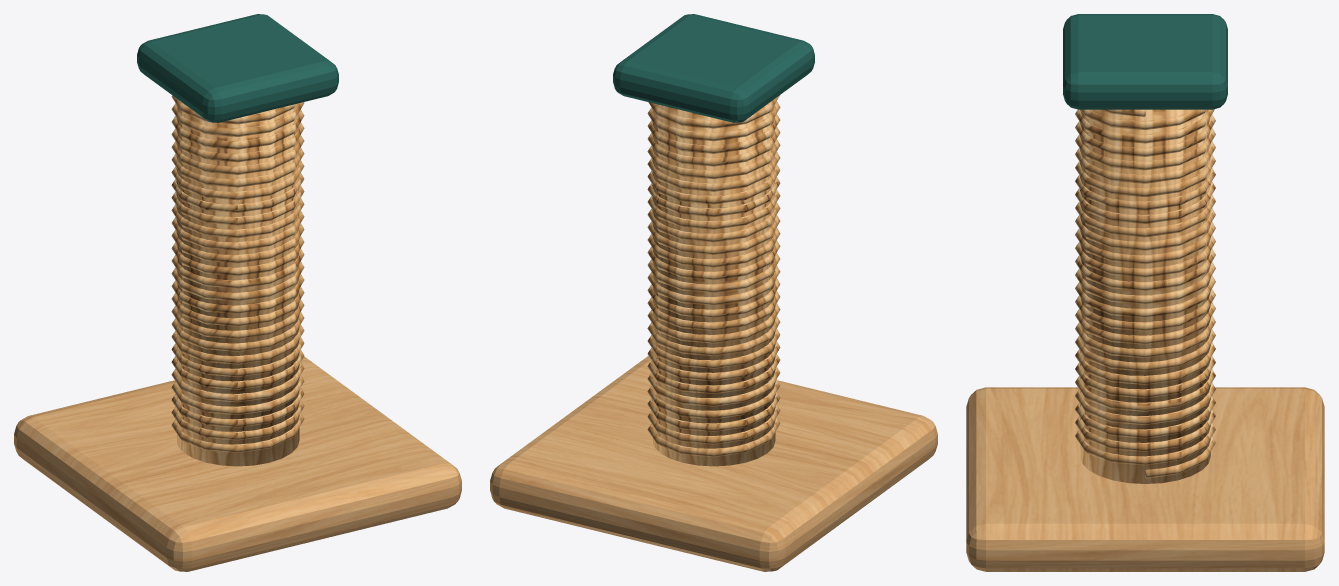
File: scratching_post.glb
The picture shows the model from 3 angles, left to right: view 1: azimuth 30°, elevation 25°; view 2: azimuth 150°, elevation 25°; view 3: azimuth 270°, elevation 25°; orthographic projection. The views are drawn at different scales.
Visible parts, largest first — view 1: scratching_post; view 2: scratching_post; view 3: scratching_post.
Part boxes in pixels (x1,y1,x2,y2): scratching_post: (14,14,461,571); scratching_post: (490,14,937,571); scratching_post: (966,14,1324,571).
Size of the model in its own units: 0.63 by 0.89 by 0.63.
Materials: 3 (2 with a texture image).
